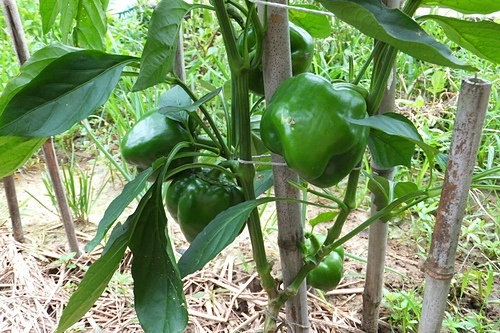fruit: (260, 72, 370, 190), (165, 166, 247, 251), (120, 104, 200, 183), (236, 17, 314, 96), (303, 244, 344, 293)
pedicle: (193, 167, 233, 186)
